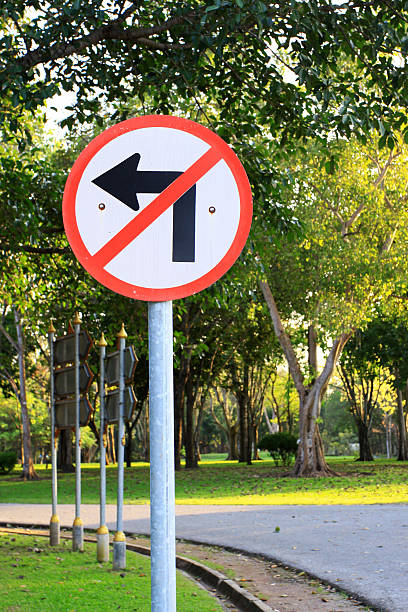sola_girilmez: (62, 115, 250, 297)
